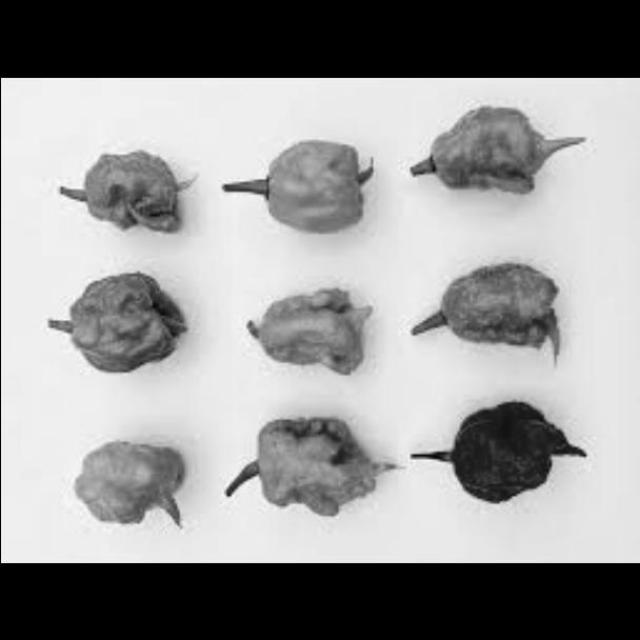hot pepper: (218, 101, 376, 248), (402, 399, 584, 519), (398, 87, 568, 214), (398, 250, 574, 372), (215, 409, 378, 522), (40, 264, 181, 382), (232, 268, 376, 372), (56, 421, 192, 528), (48, 142, 185, 240)
